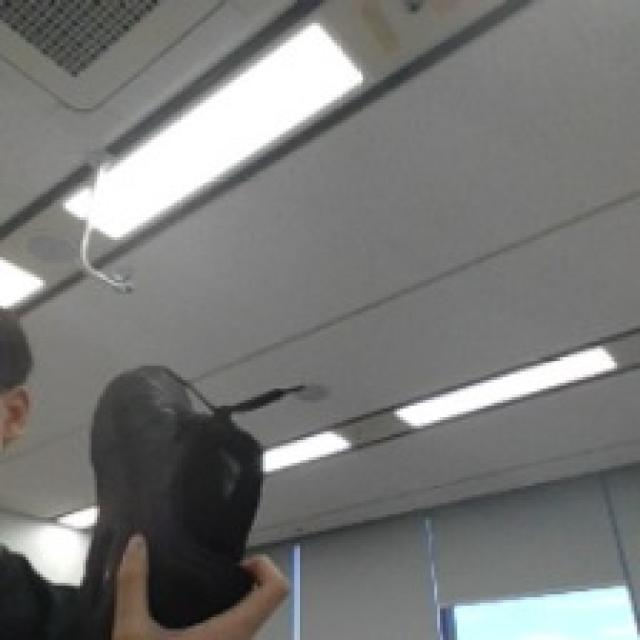shoe: (35, 323, 312, 632)
